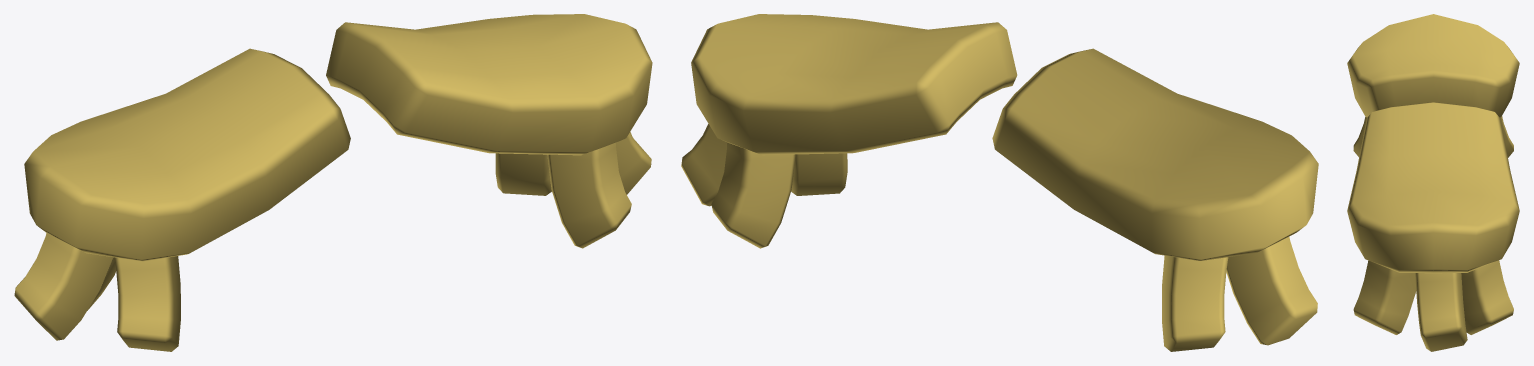
Rendered from Admirals_Shoulderpads_mesh.fbx.
The picture shows the model from 3 angles, left to right: view 1: azimuth 30°, elevation 25°; view 2: azimuth 150°, elevation 25°; view 3: azimuth 270°, elevation 25°; orthographic projection. The views are drawn at different scales.
Visible parts, largest first — view 1: Admirals_Shoulderpads_mesh; view 2: Admirals_Shoulderpads_mesh; view 3: Admirals_Shoulderpads_mesh.
Part boxes in pixels (x1,y1,x2,y2): Admirals_Shoulderpads_mesh: (14,14,652,351); Admirals_Shoulderpads_mesh: (681,14,1318,351); Admirals_Shoulderpads_mesh: (1347,14,1519,351).
Size of the model in its own units: 21.36 by 7.36 by 6.89.
